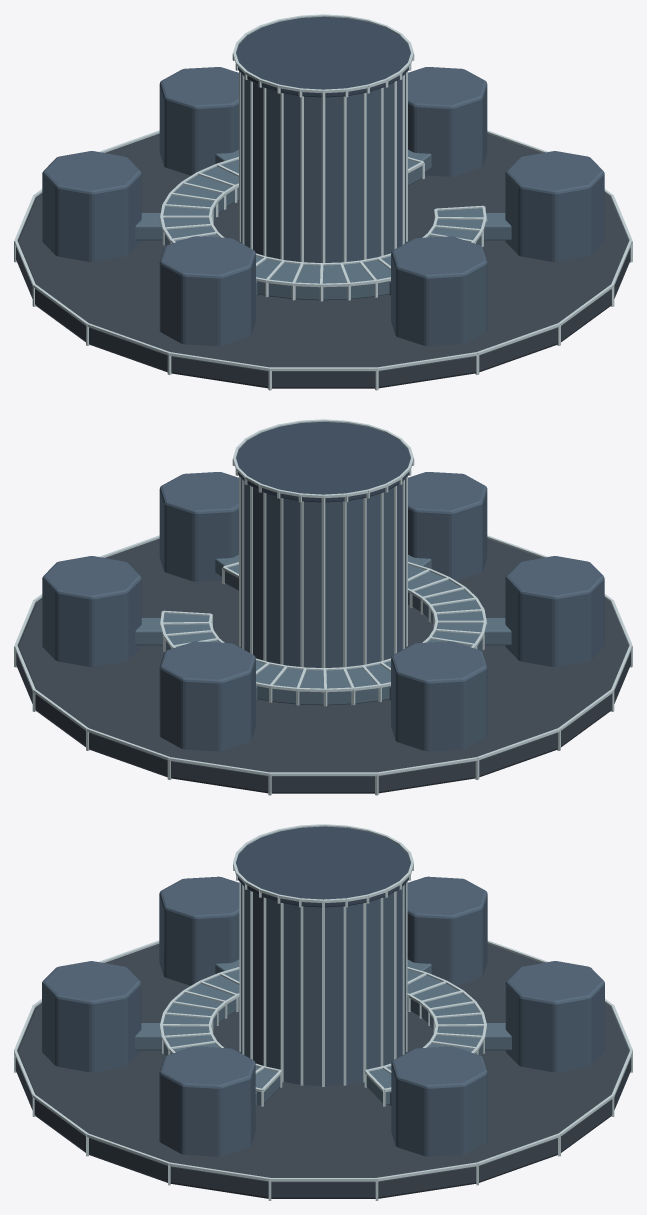
File: skill-workflow-orchestration-v1.glb
3 renders of one model, top to bottom at view 1: azimuth 30°, elevation 25°; view 2: azimuth 150°, elevation 25°; view 3: azimuth 270°, elevation 25°, orthographic.
Visible parts, largest first — view 1: skill-workflow-orchestration-v1__mesh-structure-dark__001, skill-workflow-orchestration-v1__mesh-ground__001, skill-workflow-orchestration-v1__technical-lines__001, skill-workflow-orchestration-v1__mesh-roof__001, skill-workflow-orchestration-v1__mesh-structure-mid__001; view 2: skill-workflow-orchestration-v1__mesh-structure-dark__001, skill-workflow-orchestration-v1__mesh-ground__001, skill-workflow-orchestration-v1__technical-lines__001, skill-workflow-orchestration-v1__mesh-roof__001, skill-workflow-orchestration-v1__mesh-structure-mid__001; view 3: skill-workflow-orchestration-v1__mesh-structure-dark__001, skill-workflow-orchestration-v1__mesh-ground__001, skill-workflow-orchestration-v1__technical-lines__001, skill-workflow-orchestration-v1__mesh-roof__001, skill-workflow-orchestration-v1__mesh-structure-mid__001.
Part boxes in pixels (bbox=[...]): skill-workflow-orchestration-v1__mesh-structure-dark__001: bbox=[42, 67, 604, 346]; skill-workflow-orchestration-v1__mesh-ground__001: bbox=[16, 133, 630, 388]; skill-workflow-orchestration-v1__technical-lines__001: bbox=[14, 14, 632, 390]; skill-workflow-orchestration-v1__mesh-roof__001: bbox=[236, 16, 410, 97]; skill-workflow-orchestration-v1__mesh-structure-mid__001: bbox=[135, 149, 511, 300]; skill-workflow-orchestration-v1__mesh-structure-dark__001: bbox=[42, 472, 604, 751]; skill-workflow-orchestration-v1__mesh-ground__001: bbox=[16, 538, 630, 793]; skill-workflow-orchestration-v1__technical-lines__001: bbox=[14, 419, 632, 795]; skill-workflow-orchestration-v1__mesh-roof__001: bbox=[236, 421, 410, 502]; skill-workflow-orchestration-v1__mesh-structure-mid__001: bbox=[135, 554, 511, 705]; skill-workflow-orchestration-v1__mesh-structure-dark__001: bbox=[42, 876, 604, 1156]; skill-workflow-orchestration-v1__mesh-ground__001: bbox=[15, 944, 631, 1198]; skill-workflow-orchestration-v1__technical-lines__001: bbox=[14, 824, 632, 1200]; skill-workflow-orchestration-v1__mesh-roof__001: bbox=[236, 826, 410, 907]; skill-workflow-orchestration-v1__mesh-structure-mid__001: bbox=[135, 959, 511, 1106].
Size of the model in its own units: 37.59 by 14.26 by 38.17.
